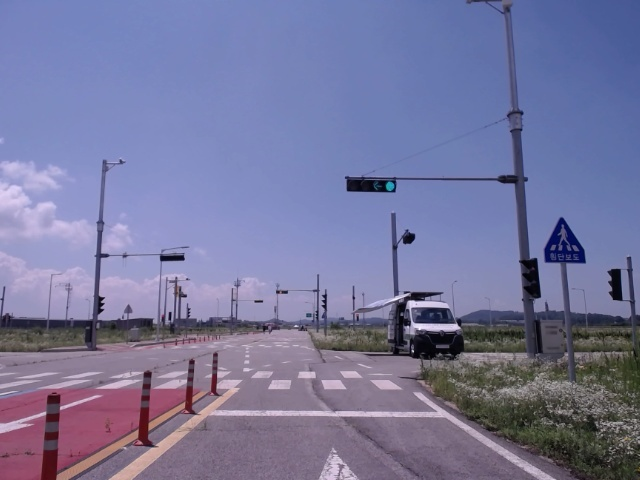all_green_4: (345, 177, 400, 193)
